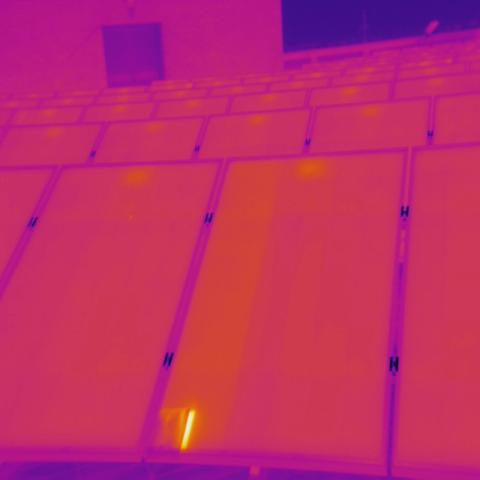fault: (153, 406, 203, 450)
